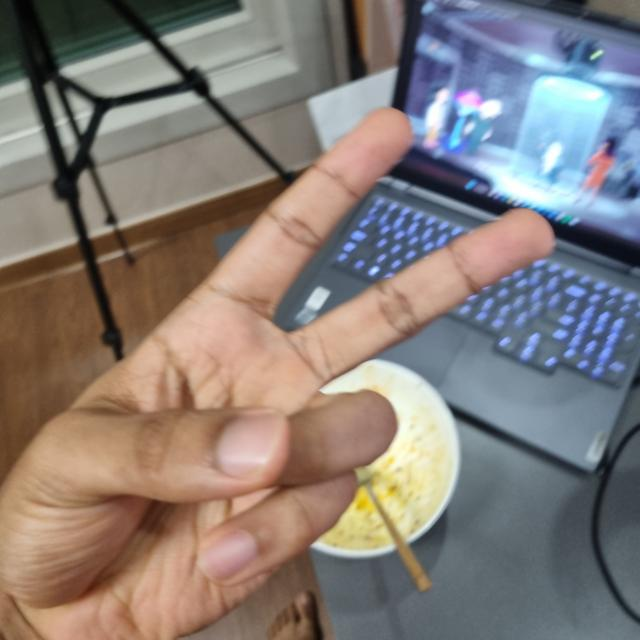Scissors: (3, 113, 555, 640)
